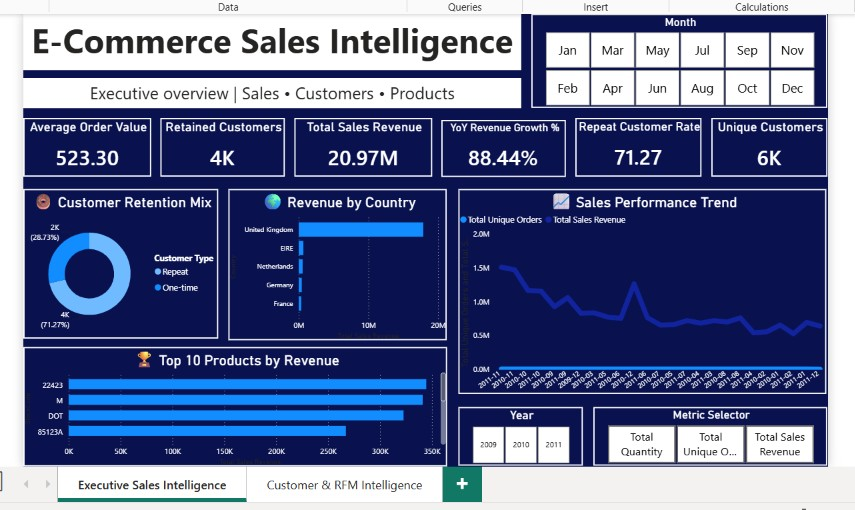

This screenshot's page, from the dashboard's own definition file:
{"tool":"powerbi","page":{"name":"Executive Sales Intelligence","canvas":[1280,720],"ordinal":0},"visuals":[{"type":"textbox","box":[0,0,792.1,89.1],"z":0},{"type":"textbox","box":[0,101.8,792.1,47.7],"z":1},{"type":"cardVisual","title":"Total Sales Revenue","fields":{"Data":["ecommerce_analytics clean_sales.Total Sales Revenue"]},"box":[431.1,165.8,219.3,93.6],"z":2},{"type":"cardVisual","title":"Average Order Value","fields":{"Data":["ecommerce_analytics clean_sales.AOV"]},"box":[0,165.8,203.2,93.6],"z":4},{"type":"cardVisual","title":"Retained Customers","fields":{"Data":["ecommerce_analytics clean_sales.Retained Customers"]},"box":[218.2,165.8,197.9,93.6],"z":5},{"type":"cardVisual","title":"Repeat Customer Rate","fields":{"Data":["ecommerce_analytics clean_sales.Repeat Customer %"]},"box":[878.2,165.8,200.6,93.6],"z":6},{"type":"cardVisual","title":"Unique Customers","fields":{"Data":["ecommerce_analytics clean_sales.Unique Customers"]},"box":[1093.7,165.8,184.5,93.6],"z":7},{"type":"lineChart","title":"📈 Sales Performance Trend","fields":{"Category":["DateTable.Year-Month"],"Y":["ecommerce_analytics clean_sales.Total Unique Orders","ecommerce_analytics clean_sales.Total Sales Revenue"]},"box":[692.6,278.1,585.6,326.2],"z":8},{"type":"barChart","title":"🌍 Revenue by Country","fields":{"Y":["ecommerce_analytics clean_sales.Total Sales Revenue"],"Category":["ecommerce_analytics clean_sales.Country"]},"box":[326.2,278.1,347.6,240.7],"z":9},{"type":"barChart","title":"🏆 Top 10 Products by Revenue","fields":{"Category":["ecommerce_analytics clean_sales.StockCode"],"Y":["ecommerce_analytics clean_sales.Total Sales Revenue"]},"box":[0,529.5,673.9,189.9],"z":10},{"type":"donutChart","title":"🍩 Customer Retention Mix","fields":{"Category":["Customer Type.Customer Type"],"Y":["Customer Type.Customer Count by Type"]},"box":[0,278.1,310.2,238],"z":11},{"type":"cardVisual","title":"YoY Revenue Growth %","fields":{"Data":["ecommerce_analytics clean_sales.YoY Revenue Growth %"]},"box":[665.3,168.5,197.9,90.9],"z":12},{"type":"slicer","title":"Month","fields":{"Values":["DateTable.Month"]},"box":[808,0,470.8,149.5],"z":14},{"type":"slicer","title":"Metric Selector ","fields":{"Values":["Metric Selector.Metric Selector"]},"box":[906.5,625.8,371.7,93.6],"z":15},{"type":"slicer","title":"Year","fields":{"Values":["DateTable.Year"]},"box":[692.6,625.8,197.9,93.6],"z":16}]}

Visuals, with their boxes in screenshot pixels (x1, y1, x2, y2):
textbox: 16 11 519 68
textbox: 16 76 519 106
"Total Sales Revenue" cardVisual: 290 116 429 176
"Average Order Value" cardVisual: 16 116 145 176
"Retained Customers" cardVisual: 154 116 280 176
"Repeat Customer Rate" cardVisual: 574 116 701 176
"Unique Customers" cardVisual: 711 116 828 176
"📈 Sales Performance Trend" lineChart: 456 188 828 395
"🌍 Revenue by Country" barChart: 223 188 444 341
"🏆 Top 10 Products by Revenue" barChart: 16 348 444 468
"🍩 Customer Retention Mix" donutChart: 16 188 213 339
"YoY Revenue Growth %" cardVisual: 438 118 564 176
"Month" slicer: 529 11 828 106
"Metric Selector " slicer: 592 409 828 468
"Year" slicer: 456 409 581 468
